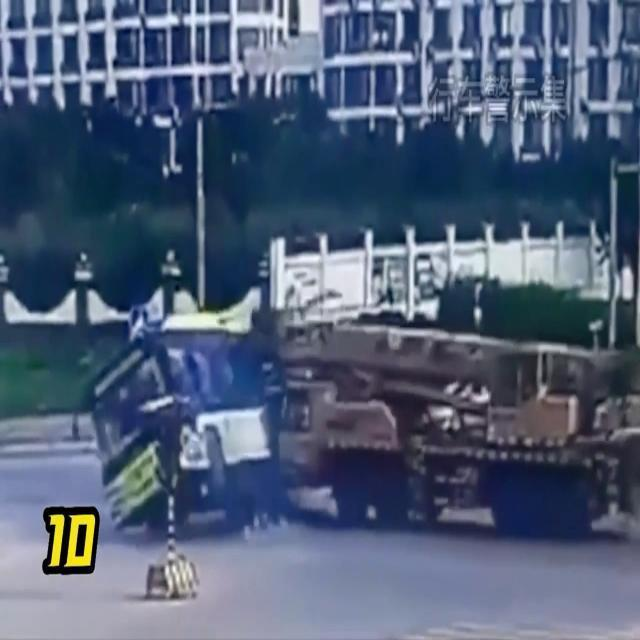accident: (86, 284, 640, 542)
